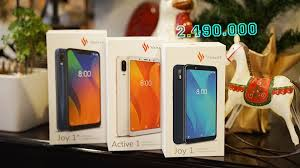vsmart: (64, 44, 103, 129), (126, 53, 165, 138), (182, 60, 218, 142)
